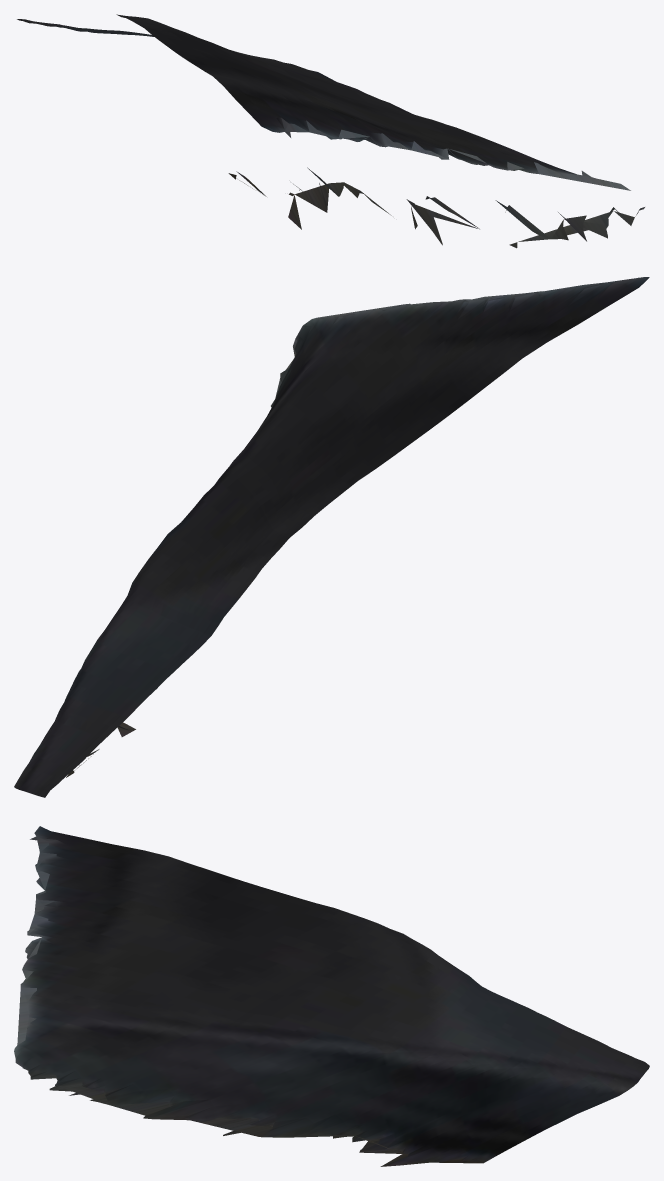
The model's file is observed-surface.glb.
The picture shows the model from 3 angles, top to bottom: view 1: azimuth 30°, elevation 25°; view 2: azimuth 150°, elevation 25°; view 3: azimuth 270°, elevation 25°; orthographic projection. The views are drawn at different scales.
Visible parts, largest first — view 1: geometry_0; view 2: geometry_0; view 3: geometry_0.
Boxes of the visible parts, bbox=[...] form: geometry_0: bbox=[17, 14, 644, 248]; geometry_0: bbox=[14, 277, 649, 797]; geometry_0: bbox=[14, 826, 649, 1166].
Size of the model in its own units: 0.461 by 0.4137 by 0.9716.
1 material, 1 textured.
